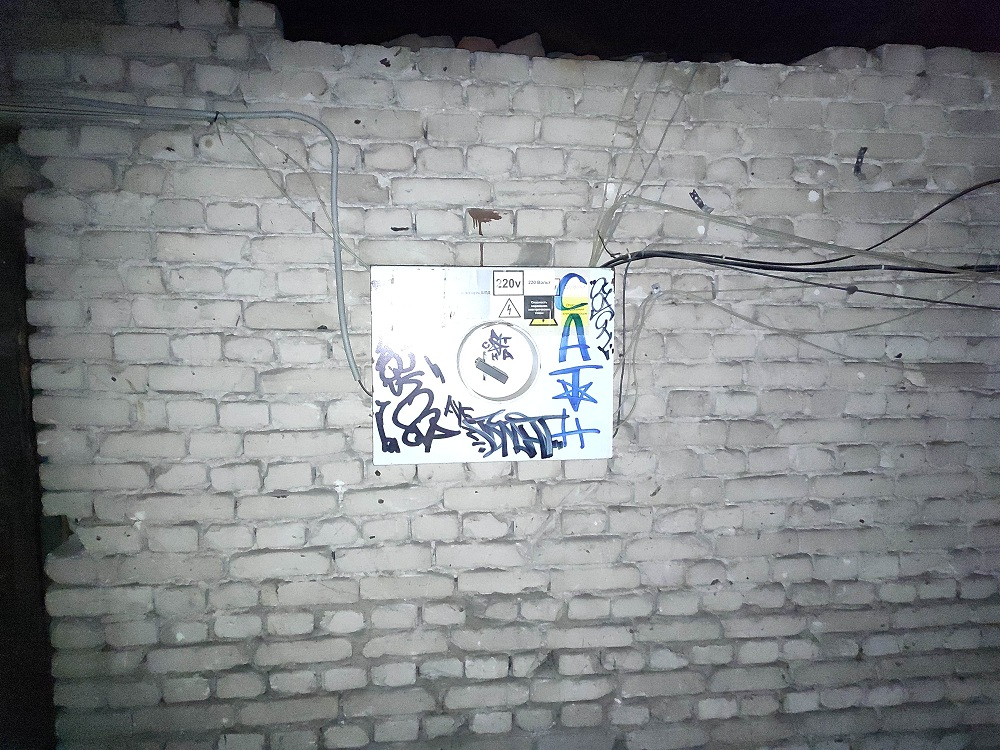shta-3: (367, 262, 616, 466)
